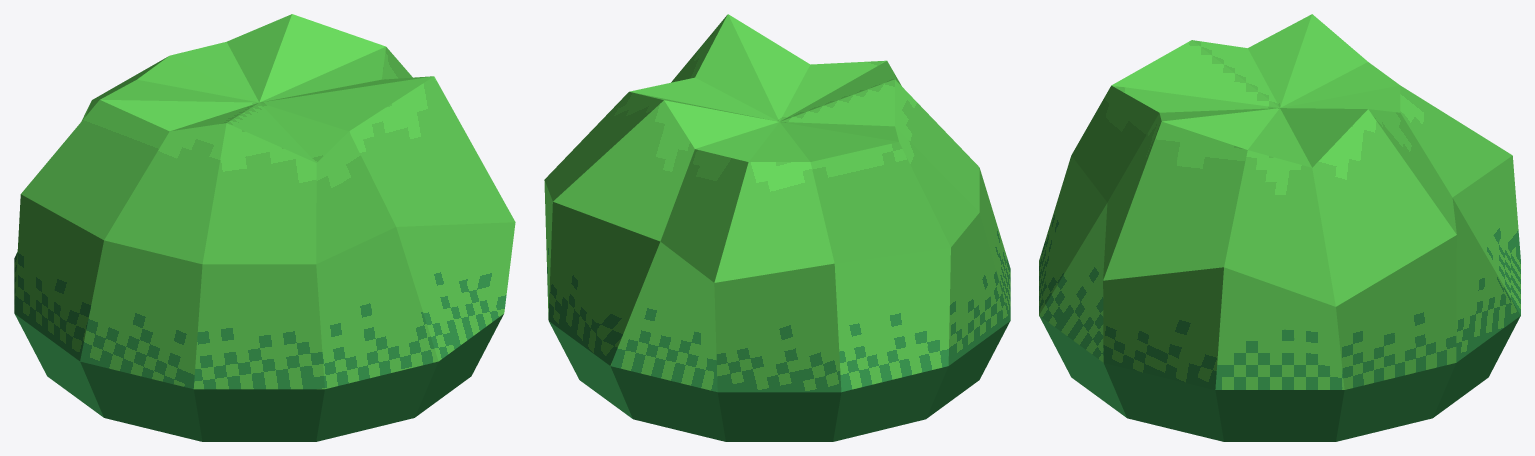
File: bush.gltf
3 views of the same model, side by side, from view 1: azimuth 30°, elevation 25°; view 2: azimuth 150°, elevation 25°; view 3: azimuth 270°, elevation 25° (orthographic). The views are drawn at different scales.
Parts seen in each view (by area): view 1: sphere; view 2: sphere; view 3: sphere.
Boxes of the visible parts, <box> form: sphere: <box>14,14,515,441</box>; sphere: <box>544,14,1010,441</box>; sphere: <box>1039,14,1520,441</box>.
Bounding box in the file's own units: 1.28 × 0.8225 × 1.25.
1 material, 1 textured.
